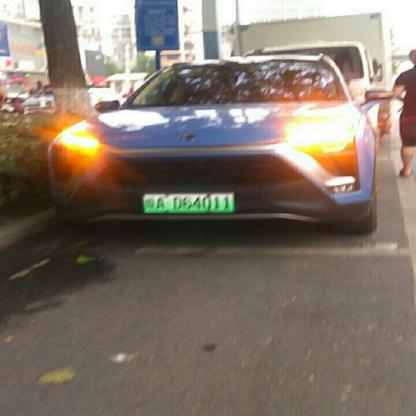lp: (143, 192, 235, 214)
